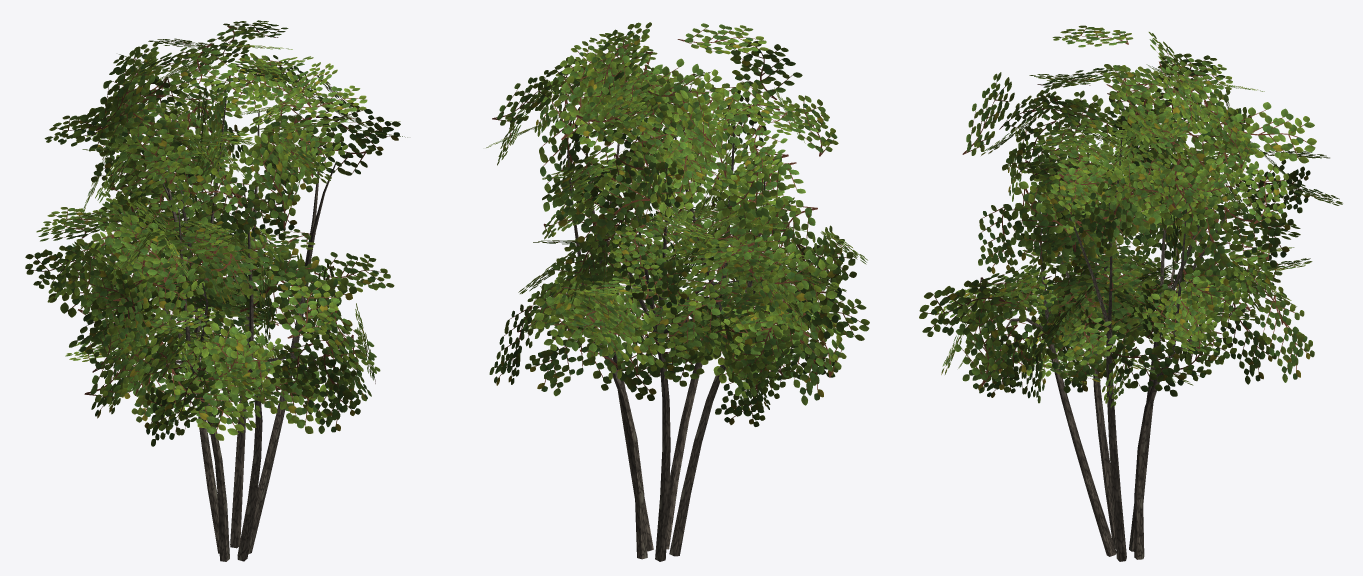
The model's file is tr_bush.glb.
3 renders of one model, left to right at view 1: azimuth 30°, elevation 25°; view 2: azimuth 150°, elevation 25°; view 3: azimuth 270°, elevation 25°, orthographic. The views are drawn at different scales.
Visible parts, largest first — view 1: tr_bush; view 2: tr_bush; view 3: tr_bush.
Boxes of the visible parts, x1,y1,x2,y2 form: tr_bush: (25, 20, 407, 561); tr_bush: (486, 22, 869, 561); tr_bush: (919, 25, 1342, 561).
Size of the model in its own units: 5.04 by 7.12 by 5.55.
Materials: 2 (2 with a texture image).
